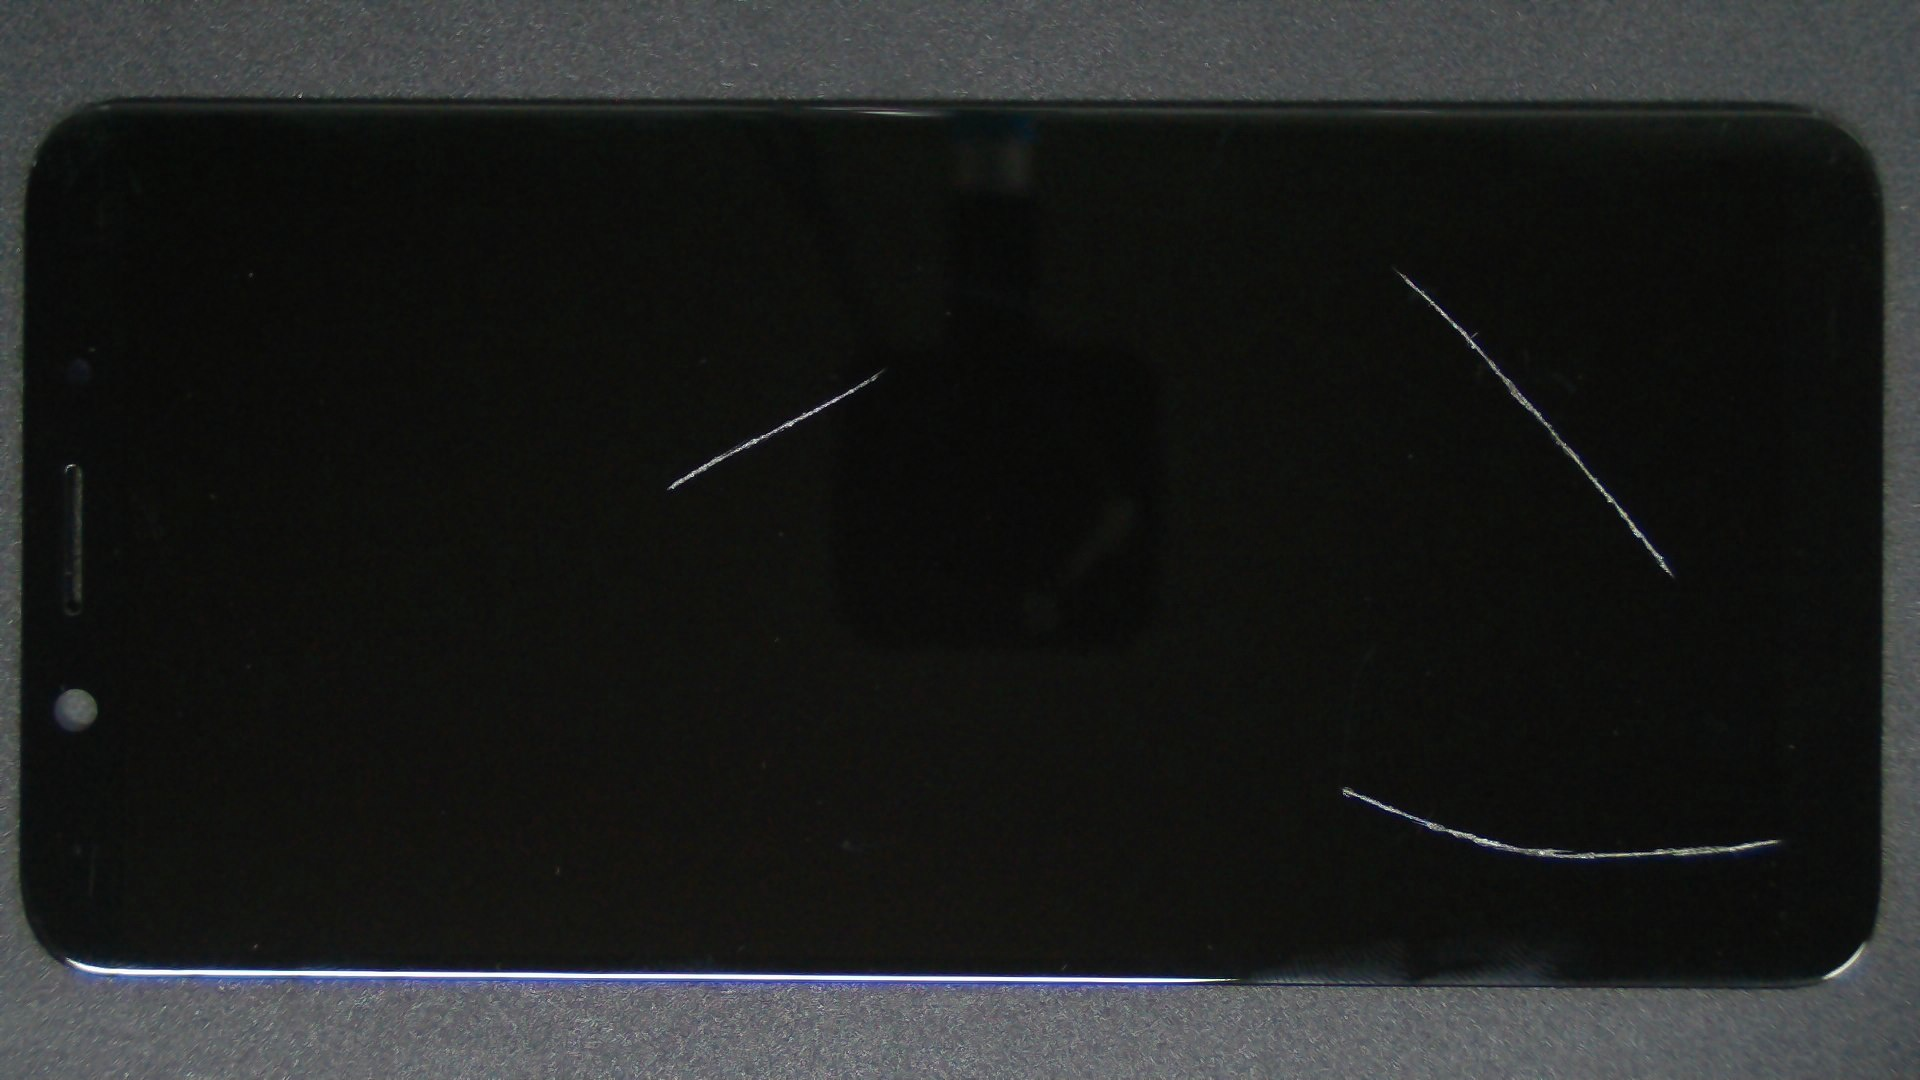oil: (674, 392, 1920, 1080), (700, 136, 1920, 409), (442, 183, 1324, 553)
